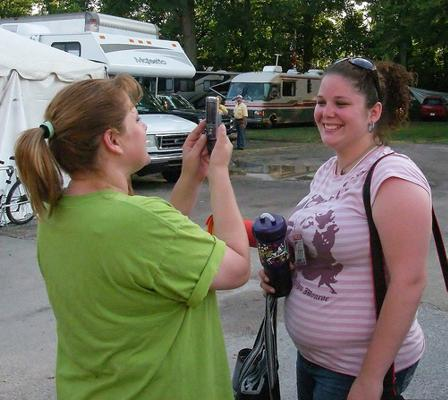person: (13, 74, 256, 399)
